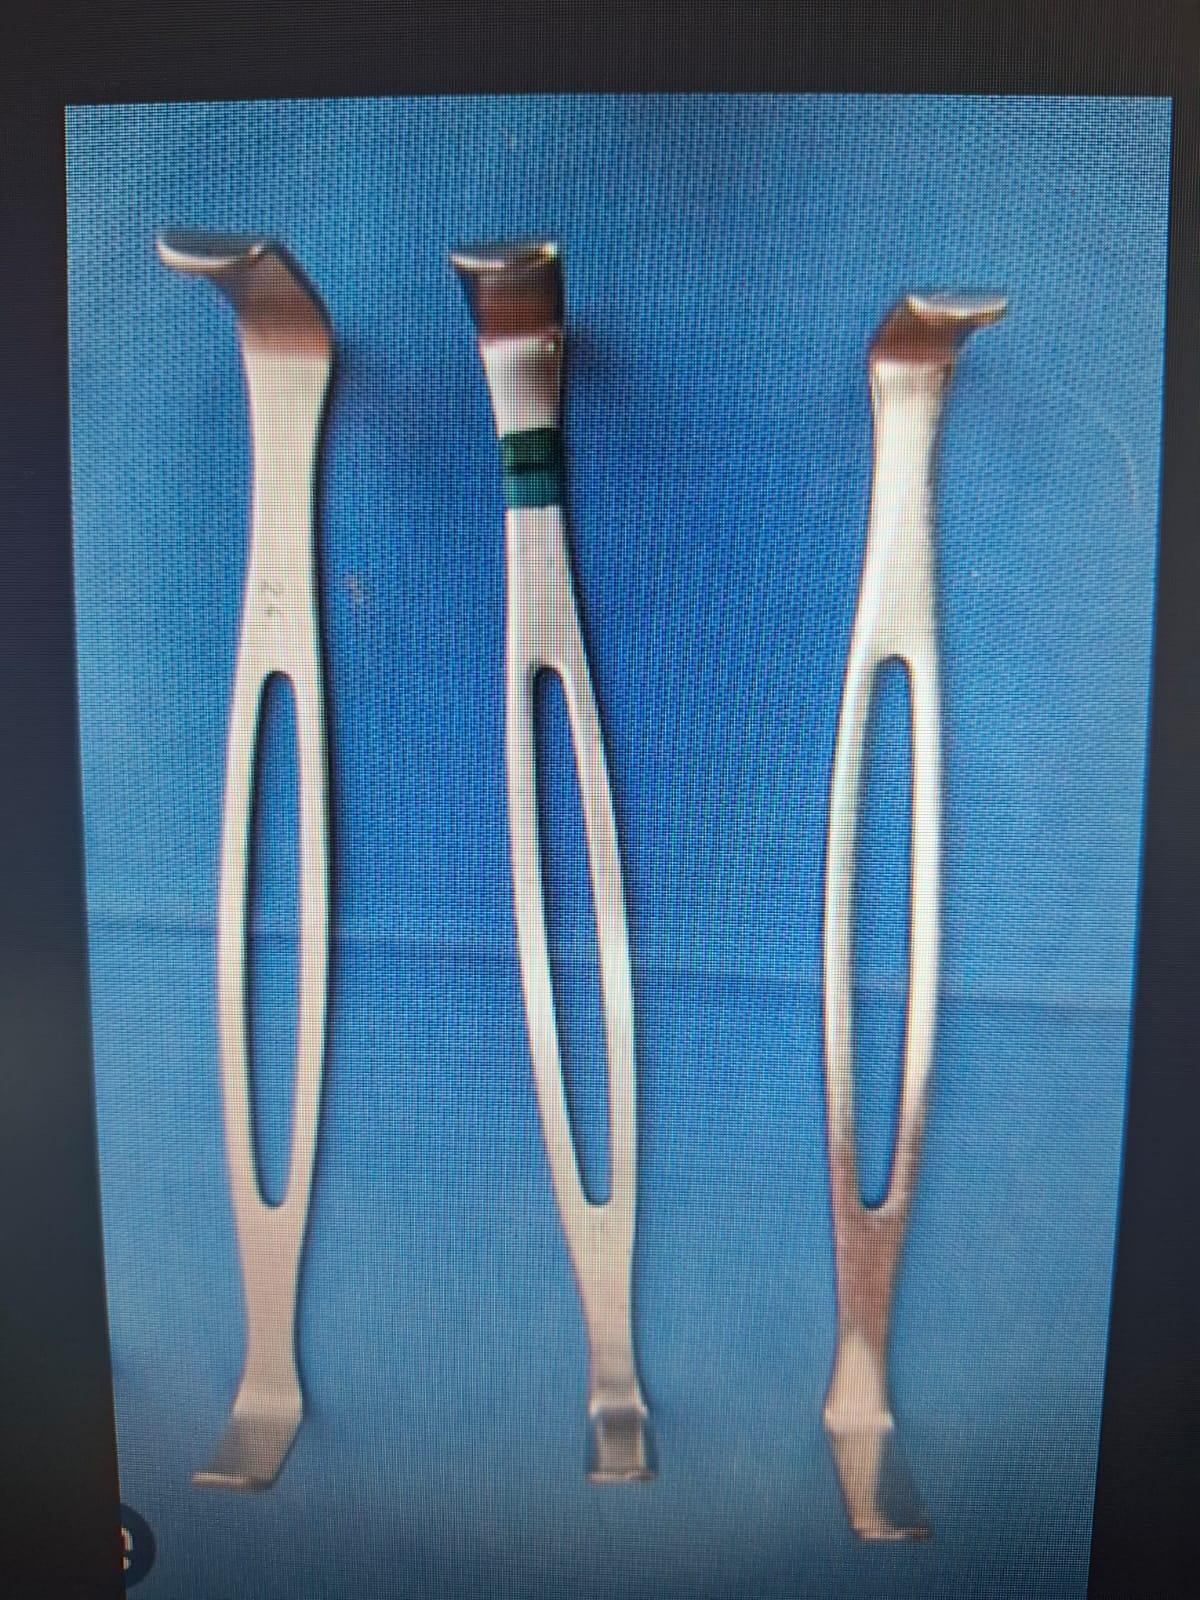Army Navy Retractor: (112, 200, 378, 1510), (790, 262, 1042, 1565)
